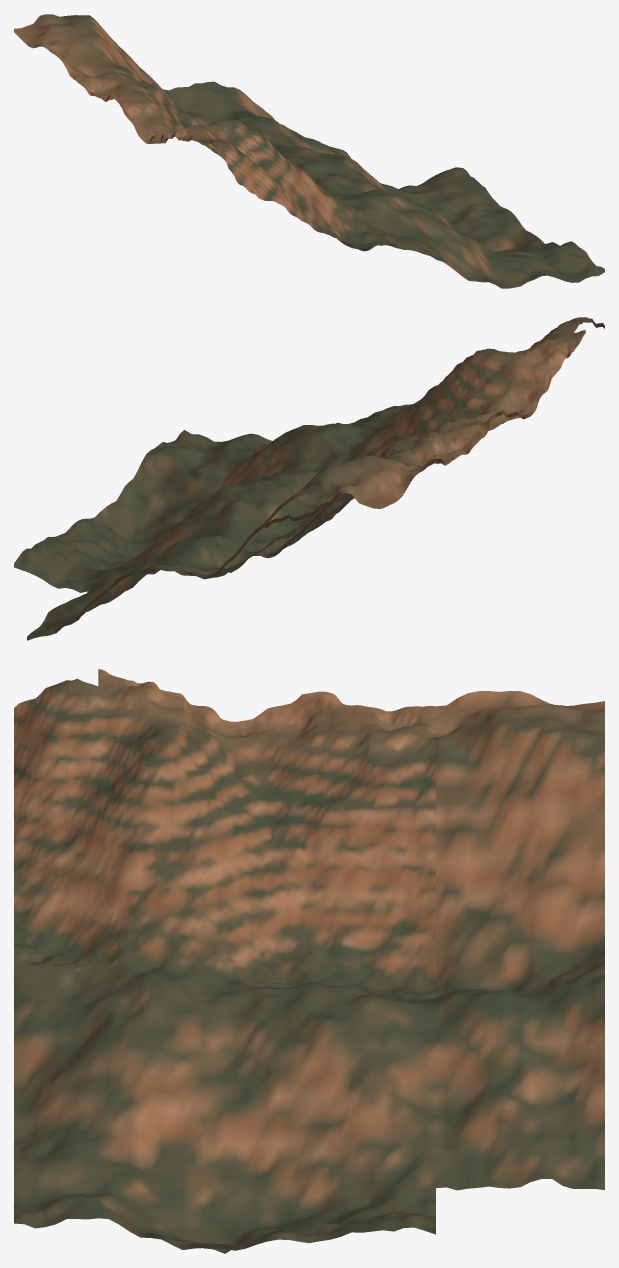
The model's file is terrain-030.glb.
The picture shows the model from 3 angles, top to bottom: view 1: azimuth 30°, elevation 25°; view 2: azimuth 150°, elevation 25°; view 3: azimuth 270°, elevation 25°; orthographic projection. The views are drawn at different scales.
Parts seen in each view (by area): view 1: terrain-030; view 2: terrain-030; view 3: terrain-030.
Part boxes in pixels (left/top/right/bottom): terrain-030: left=14, top=14, right=604, bottom=288; terrain-030: left=14, top=317, right=604, bottom=640; terrain-030: left=14, top=669, right=604, bottom=1253.
Size of the model in its own units: 472 by 283 by 448.
